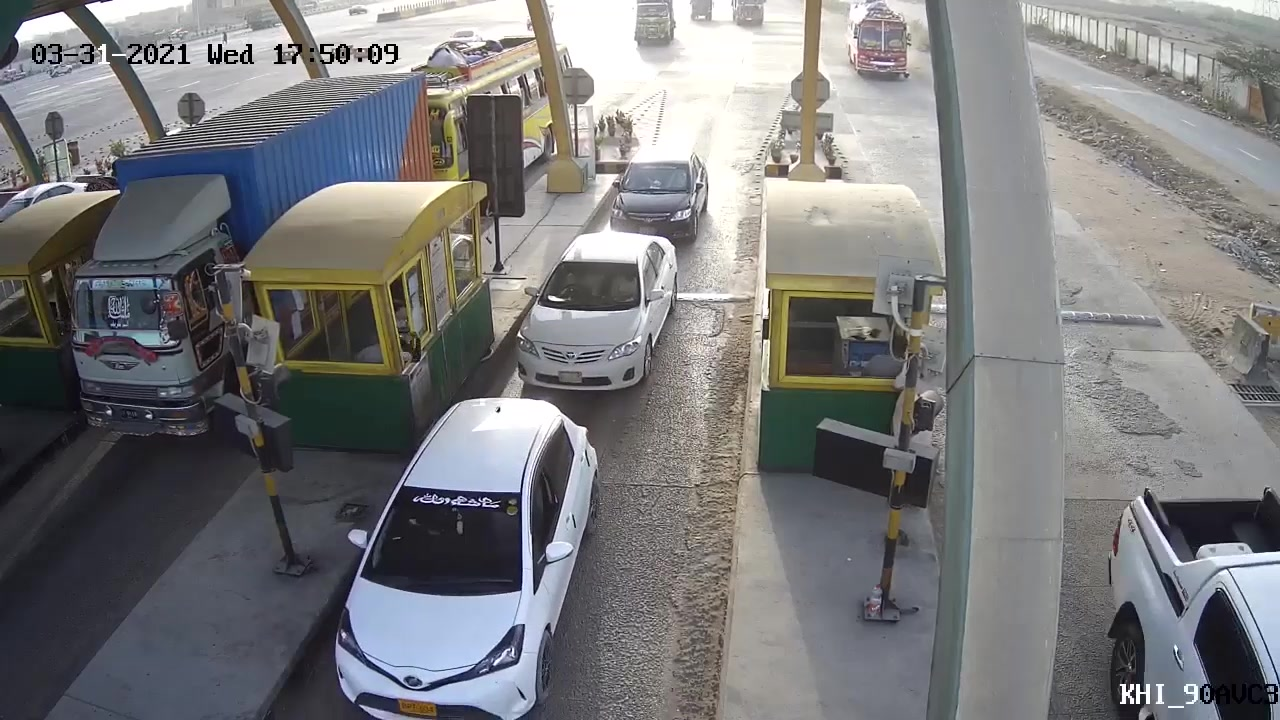F1: (338, 394, 600, 716), (513, 230, 683, 400), (605, 143, 711, 242)
